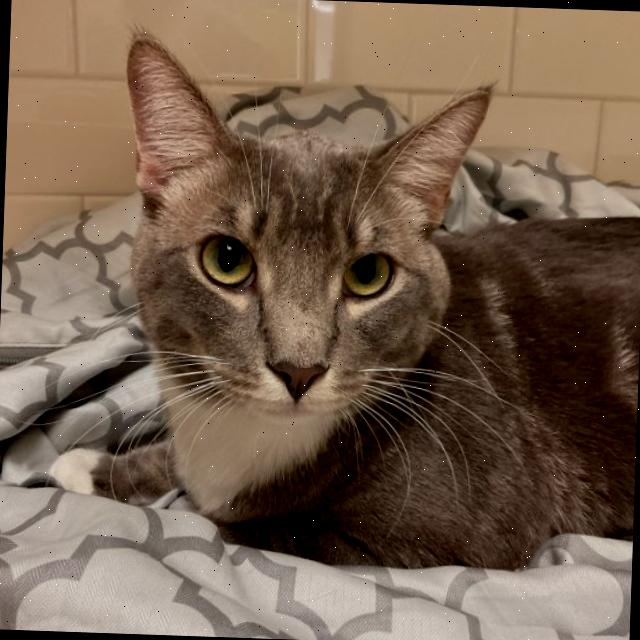russian_blue_cat: (97, 20, 545, 478)
